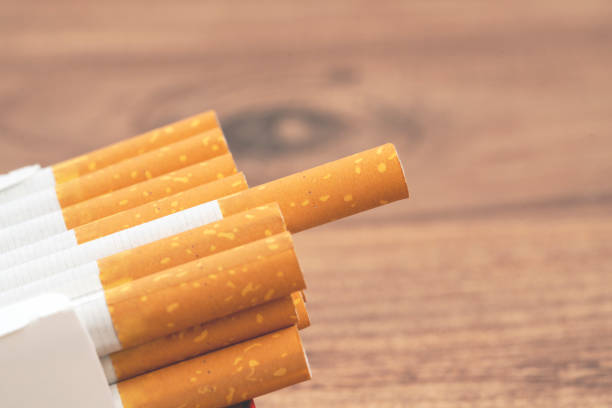cigarette: (0, 142, 411, 292), (0, 201, 290, 310), (79, 246, 309, 359), (0, 170, 250, 271), (0, 150, 238, 255), (0, 127, 229, 230), (0, 110, 222, 202), (67, 229, 296, 313), (99, 295, 300, 385), (108, 322, 313, 408), (288, 291, 311, 332)
